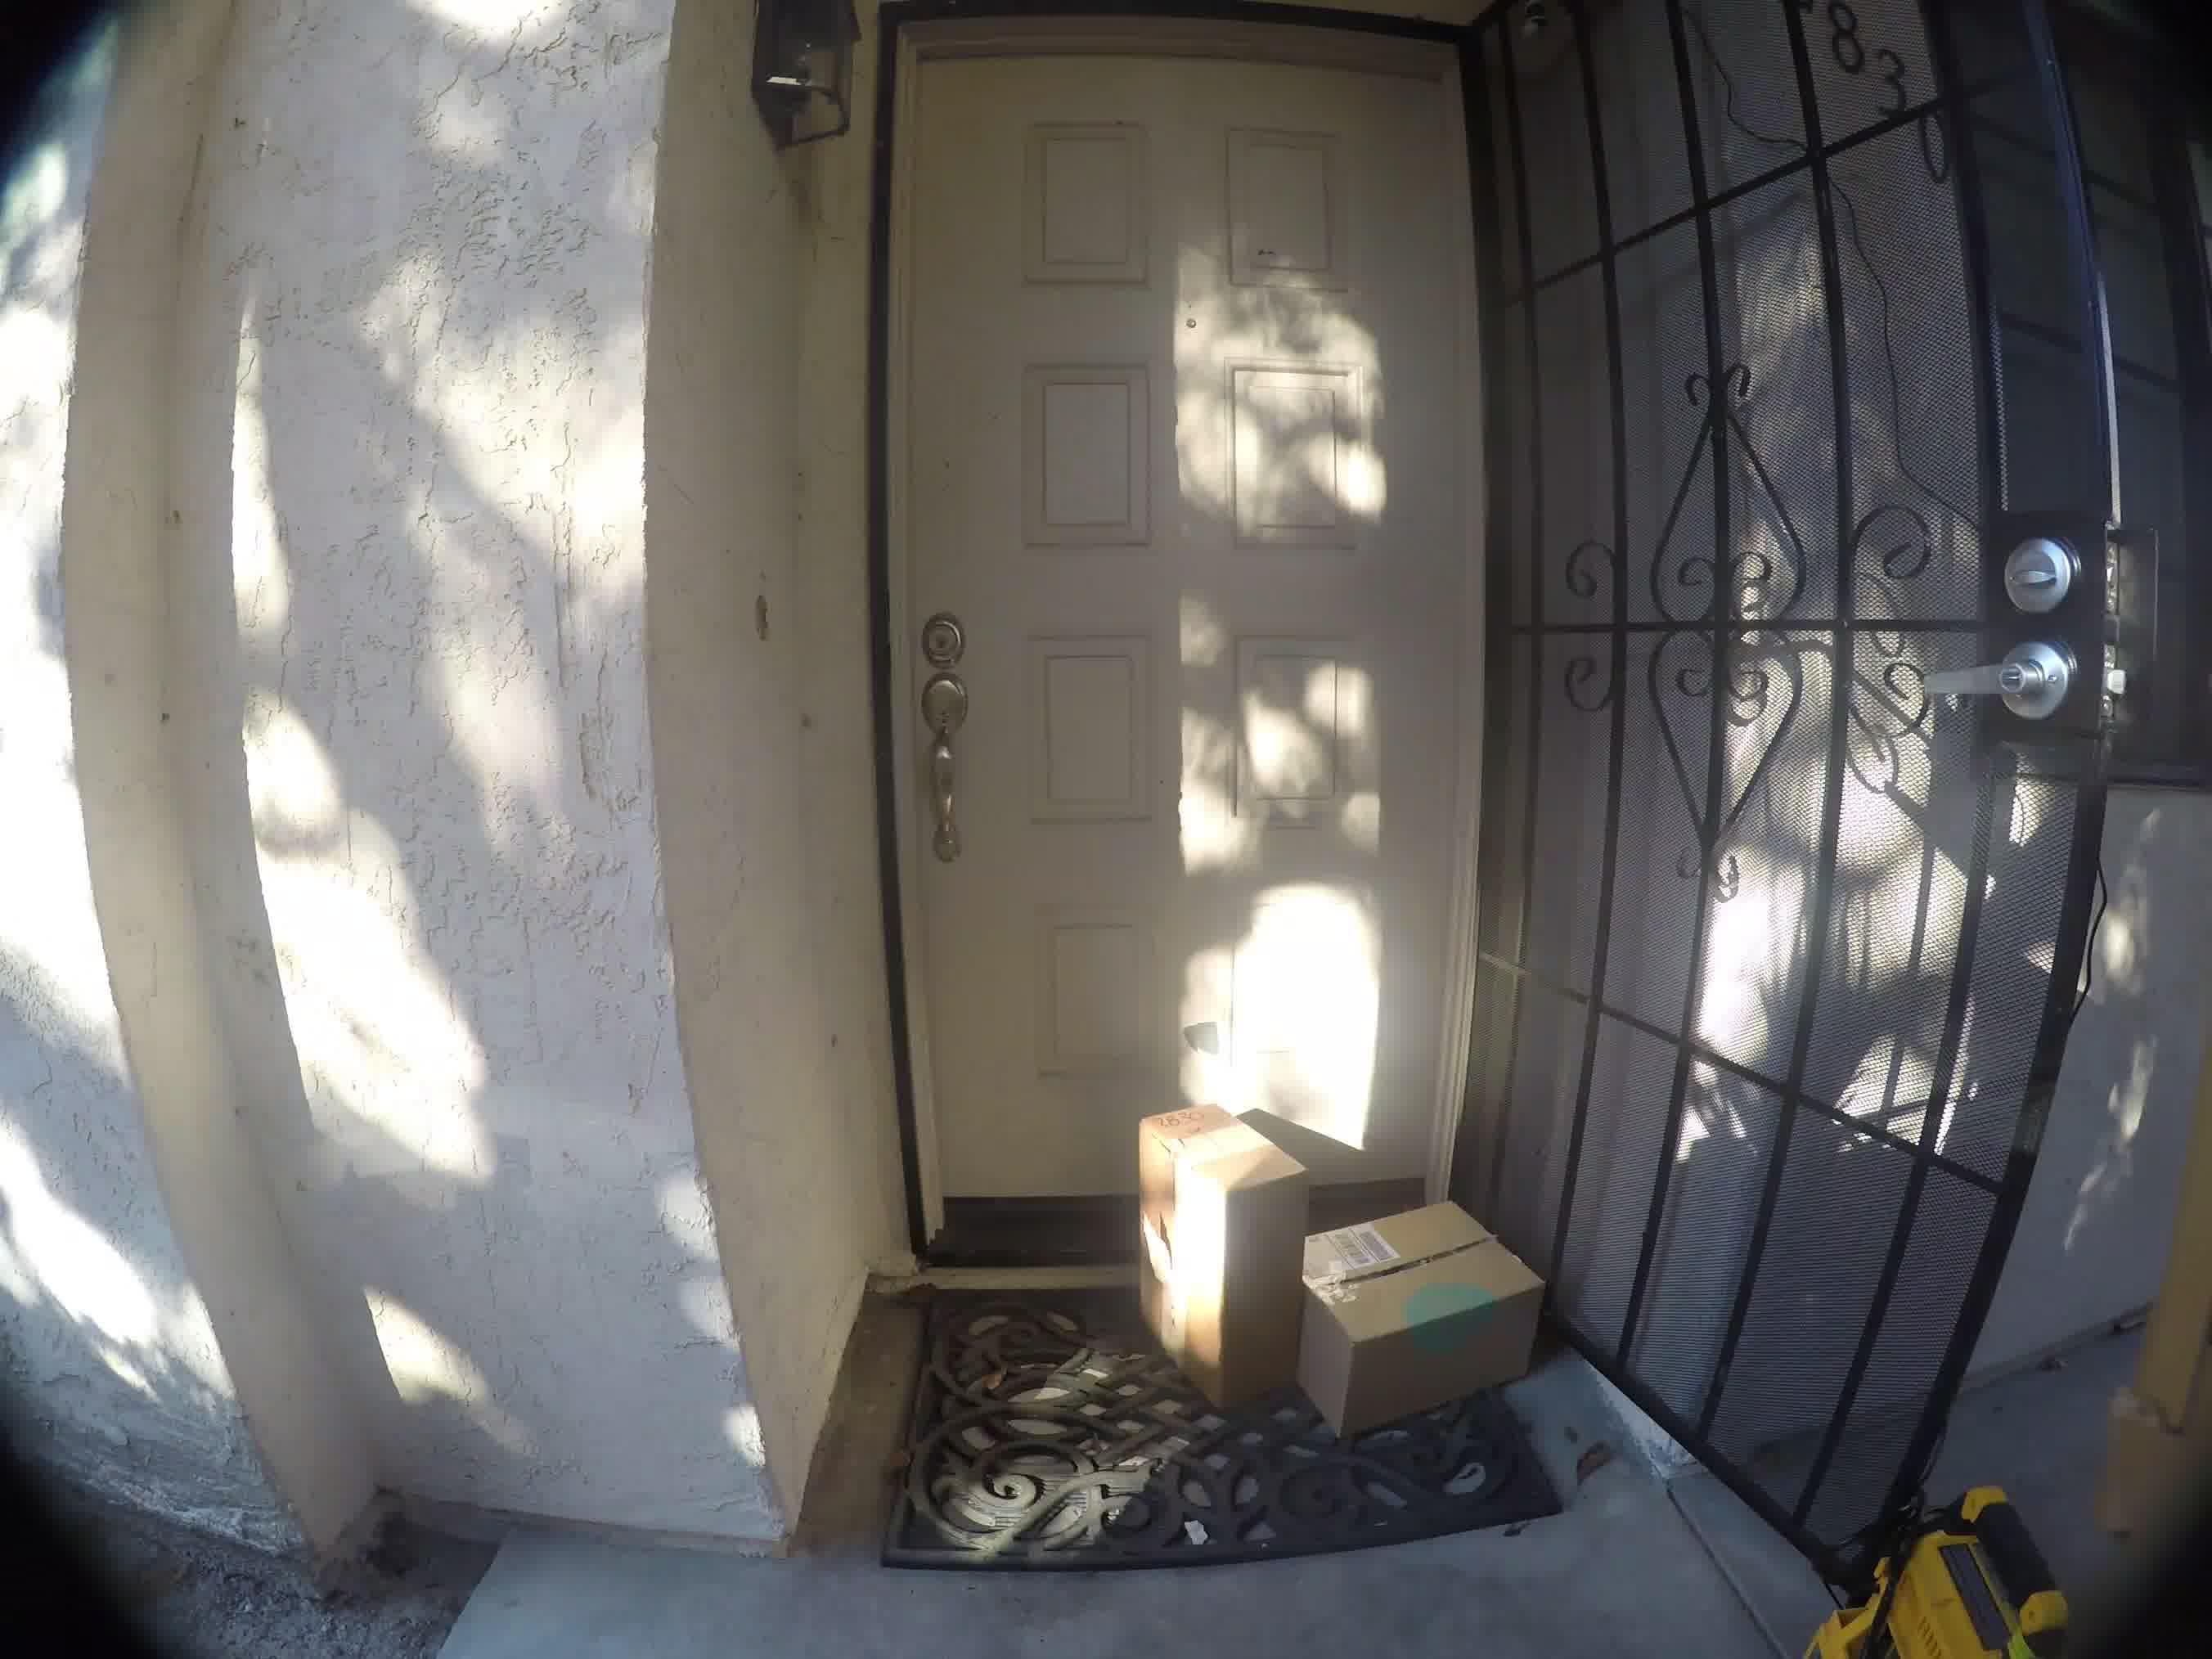box: (1125, 1094, 1298, 1403), (1308, 1197, 1561, 1391)
